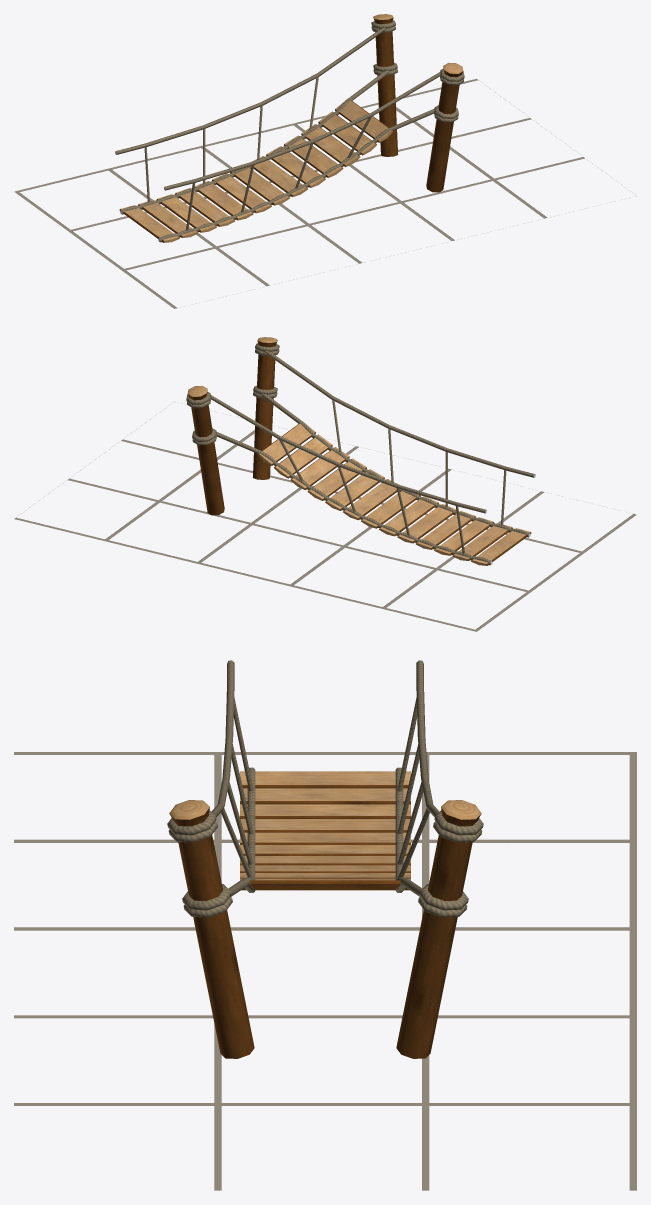
The model's file is Prop_Bridge_Rope_End_Basic_1x3.glb.
3 views of the same model, one above another, from view 1: azimuth 30°, elevation 25°; view 2: azimuth 150°, elevation 25°; view 3: azimuth 270°, elevation 25° (orthographic). The views are drawn at different scales.
Parts seen in each view (by area): view 1: Prop_Bridge_Rope_End_Basic_1x3, Floor; view 2: Prop_Bridge_Rope_End_Basic_1x3, Floor; view 3: Prop_Bridge_Rope_End_Basic_1x3, Floor.
Boxes of the visible parts, left/top/right/bottom form: Prop_Bridge_Rope_End_Basic_1x3: left=115, top=14, right=464, bottom=242; Floor: left=14, top=78, right=621, bottom=308; Prop_Bridge_Rope_End_Basic_1x3: left=186, top=337, right=535, bottom=565; Floor: left=14, top=401, right=636, bottom=631; Prop_Bridge_Rope_End_Basic_1x3: left=167, top=660, right=483, bottom=1058; Floor: left=14, top=752, right=636, bottom=1190.
Bounding box in the file's own units: 500 × 135 × 300.
Materials: 6 (5 with a texture image).
